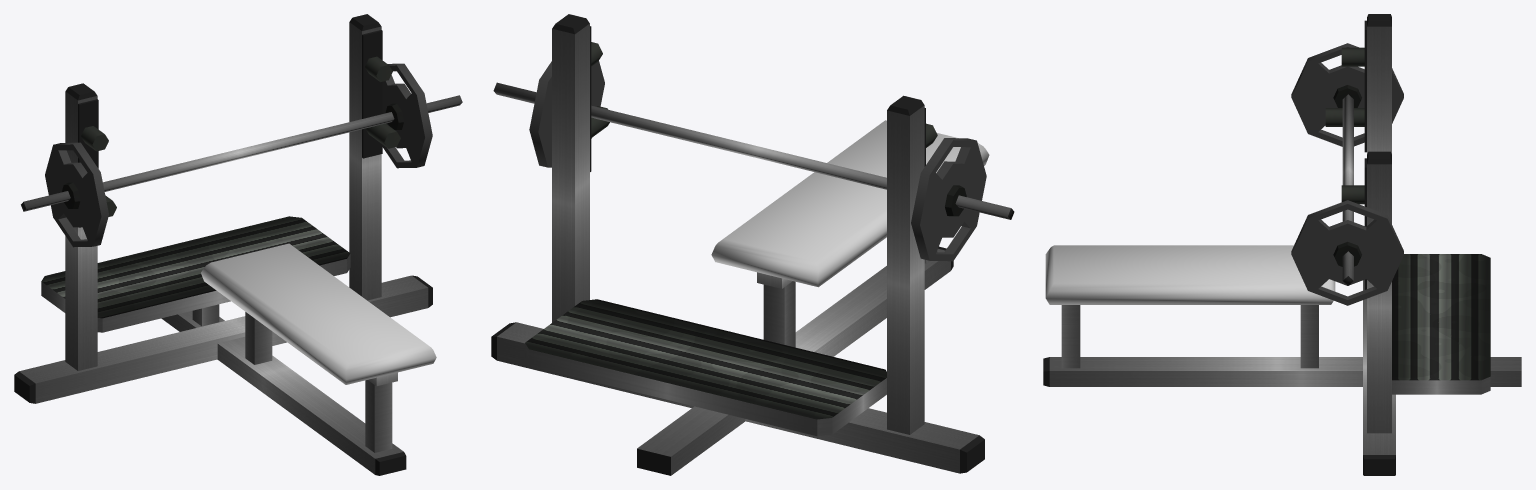
Rendered from Weight_Bench.FBX.
3 views of the same model, side by side, from view 1: azimuth 30°, elevation 25°; view 2: azimuth 150°, elevation 25°; view 3: azimuth 270°, elevation 25° (orthographic). The views are drawn at different scales.
Parts seen in each view (by area): view 1: Weight_Bench; view 2: Weight_Bench; view 3: Weight_Bench.
Boxes of the visible parts, box(x1,y1,x2,y2) form: Weight_Bench: box(14, 14, 462, 475); Weight_Bench: box(491, 14, 1014, 475); Weight_Bench: box(1043, 14, 1521, 475).
Bounding box in the file's own units: 400 × 259 × 382.
